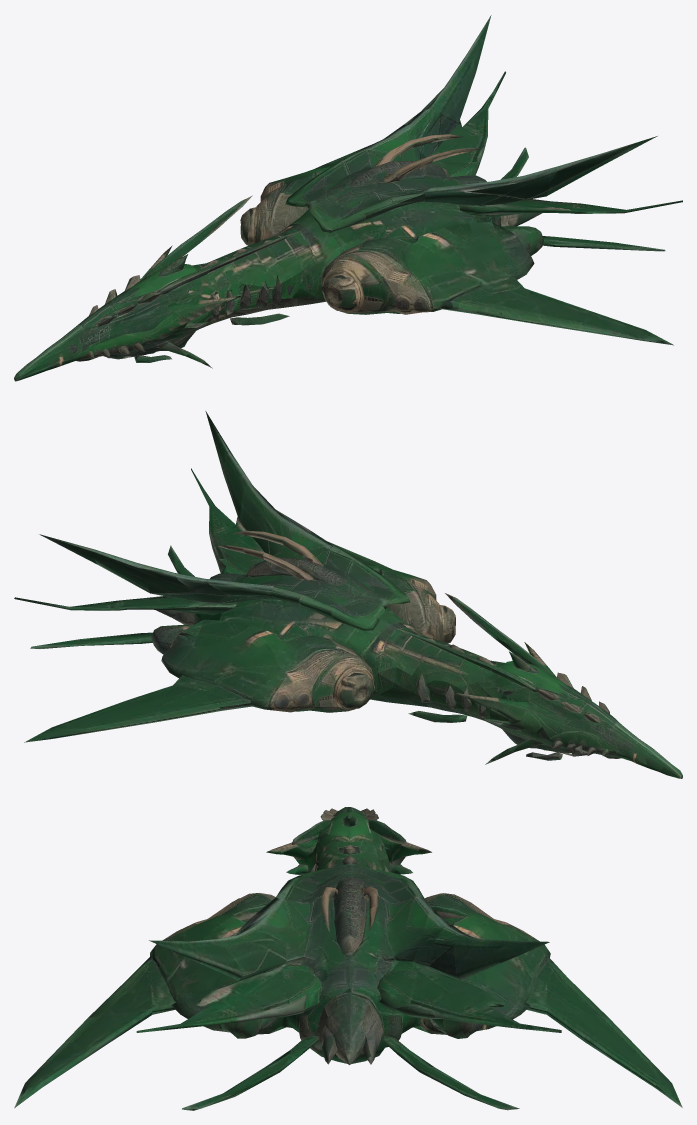
File: Meshy_AI_Emerald_Serpent_Starf_0818055844_texture.glb
The picture shows the model from 3 angles, top to bottom: view 1: azimuth 30°, elevation 25°; view 2: azimuth 150°, elevation 25°; view 3: azimuth 270°, elevation 25°; orthographic projection. The views are drawn at different scales.
Parts seen in each view (by area): view 1: mesh_node; view 2: mesh_node; view 3: mesh_node.
Part boxes in pixels (x1,y1,x2,y2): mesh_node: [14, 15, 682, 381]; mesh_node: [14, 411, 682, 778]; mesh_node: [14, 807, 682, 1110].
Bounding box in the file's own units: 1 × 0.3115 × 0.8301.
1 material, 1 textured.
